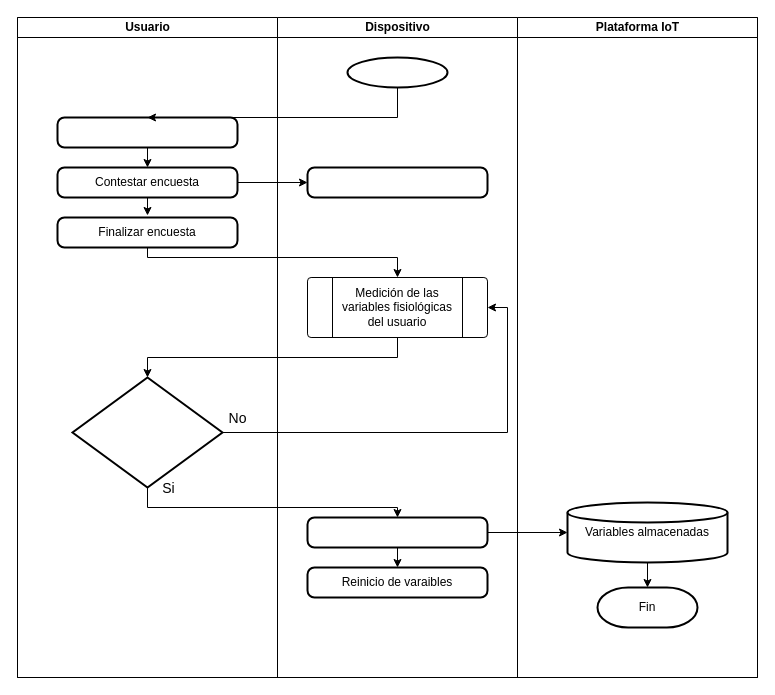
Image size: 775x695. Some labels were removed from this diagram. The box of each missing label's shape, as (x1, y1, x2, y2) in pixels:
Aceptación de la medición por parte del usuario: (71, 376, 223, 488)
Almacenamiento de variables: (306, 166, 488, 198)
Emite alarma: (346, 56, 448, 88)
Envío de variables: (306, 516, 488, 548)
Iniciar encuesta: (56, 116, 238, 148)
